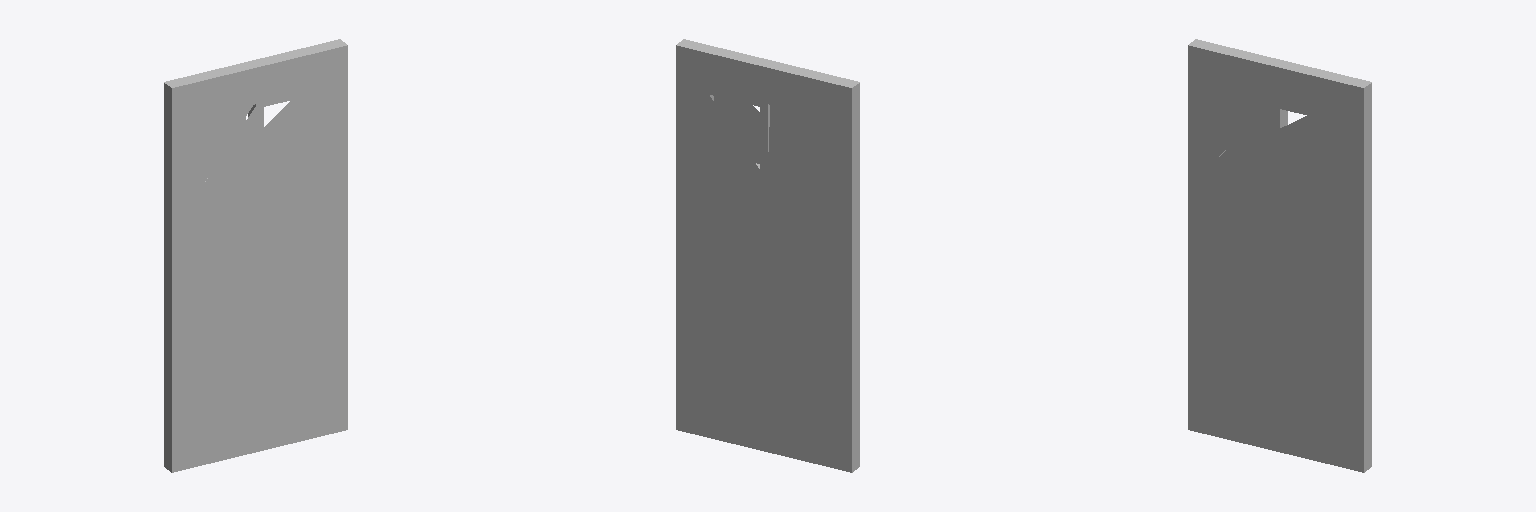
Rendered from PuertaAula.obj.
3 renders of one model, left to right at view 1: azimuth 30°, elevation 25°; view 2: azimuth 150°, elevation 25°; view 3: azimuth 330°, elevation 25°, orthographic.
Visible parts, largest first — view 1: Cube.001; view 2: Cube.001; view 3: Cube.001.
Boxes of the visible parts, x1,y1,x2,y2 form: Cube.001: [164, 39, 347, 472]; Cube.001: [676, 39, 859, 472]; Cube.001: [1188, 39, 1371, 472].
Bounding box in the file's own units: 2.4 × 5 × 0.1984.